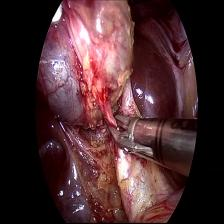Clipper: (107, 109, 157, 160)
